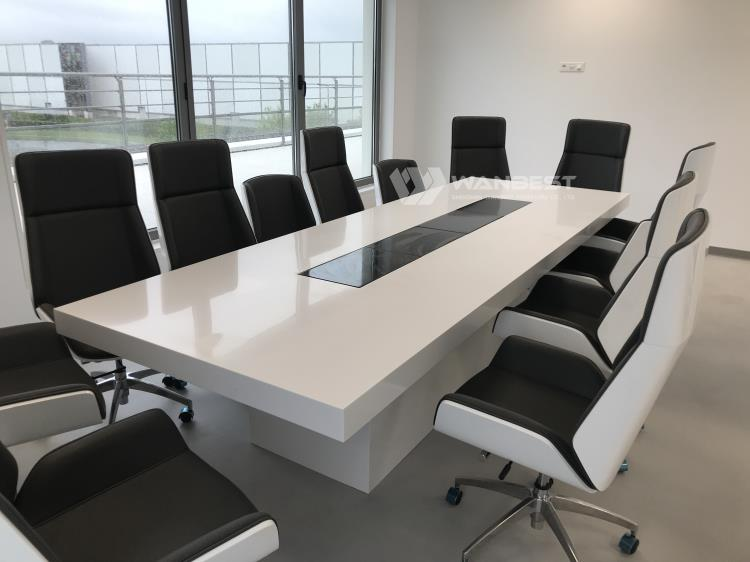conference_table: (54, 178, 631, 493)
